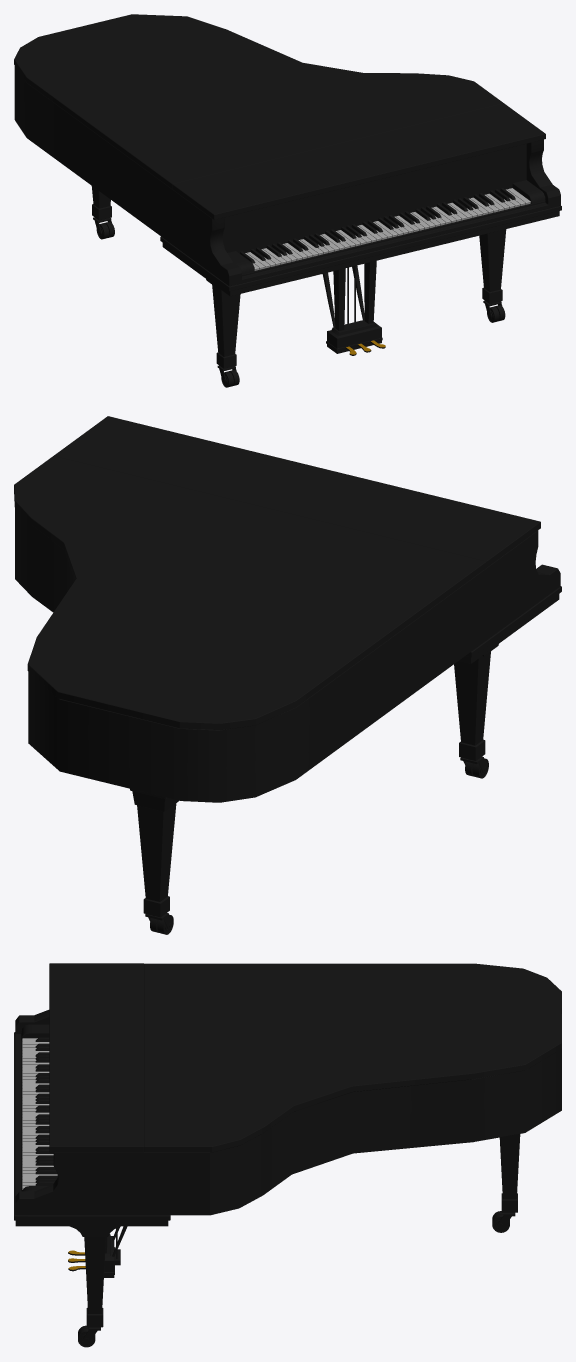
File: piano.fbx
3 views of the same model, one above another, from view 1: azimuth 30°, elevation 25°; view 2: azimuth 150°, elevation 25°; view 3: azimuth 270°, elevation 25° (orthographic). The views are drawn at different scales.
Parts seen in each view (by area): view 1: Piano; view 2: Piano; view 3: Piano.
Part boxes in pixels (x1,y1,x2,y2): Piano: (14, 14, 561, 387); Piano: (14, 416, 561, 934); Piano: (14, 963, 561, 1347).
Bounding box in the file's own units: 6.07 × 3.33 × 7.64.
1 material, 1 textured.
